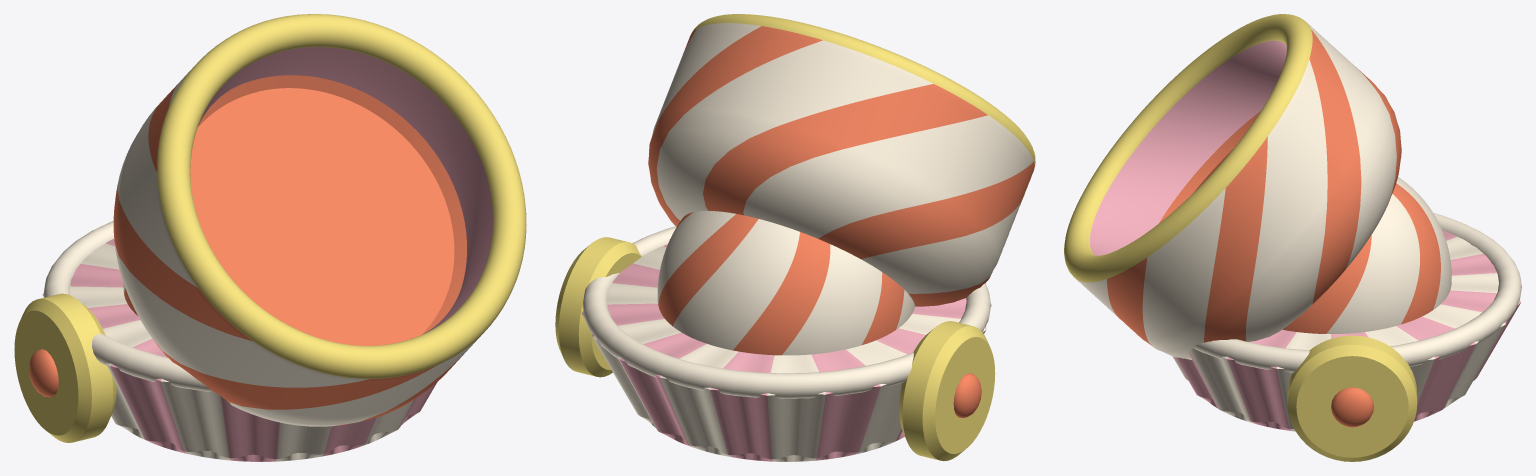
The model's file is cannon.glb.
The picture shows the model from 3 angles, left to right: view 1: azimuth 30°, elevation 25°; view 2: azimuth 150°, elevation 25°; view 3: azimuth 270°, elevation 25°; orthographic projection. The views are drawn at different scales.
Parts seen in each view (by area): view 1: cannon; view 2: cannon; view 3: cannon.
Boxes of the visible parts, left/top/right/bottom form: cannon: left=14, top=14, right=526, bottom=461; cannon: left=555, top=14, right=1035, bottom=461; cannon: left=1064, top=14, right=1521, bottom=461.
Size of the model in its own units: 2.02 by 1.76 by 2.12.
